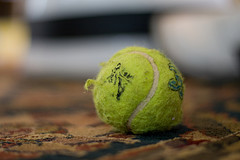tennis ball: (93, 44, 185, 135)
